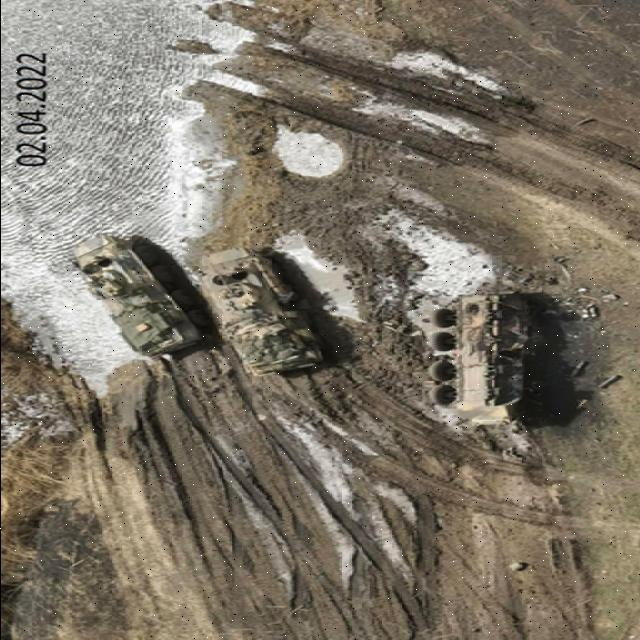APC-IFV: (414, 286, 556, 438), (69, 230, 209, 365), (193, 242, 329, 378)
